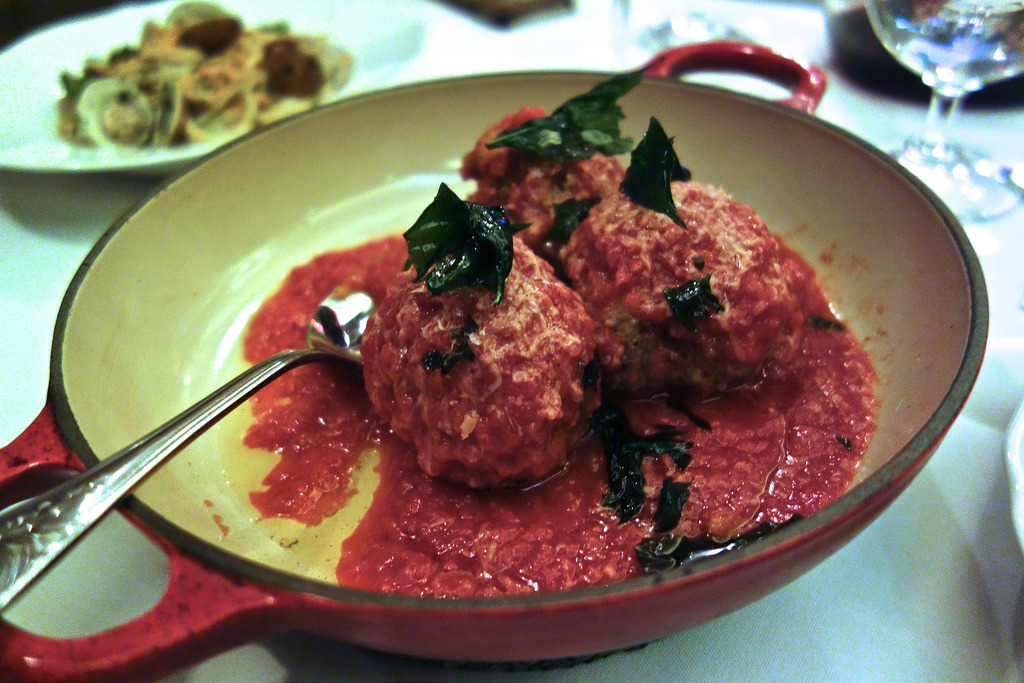meatballs: (347, 233, 592, 463), (597, 173, 775, 402), (483, 113, 611, 229)
